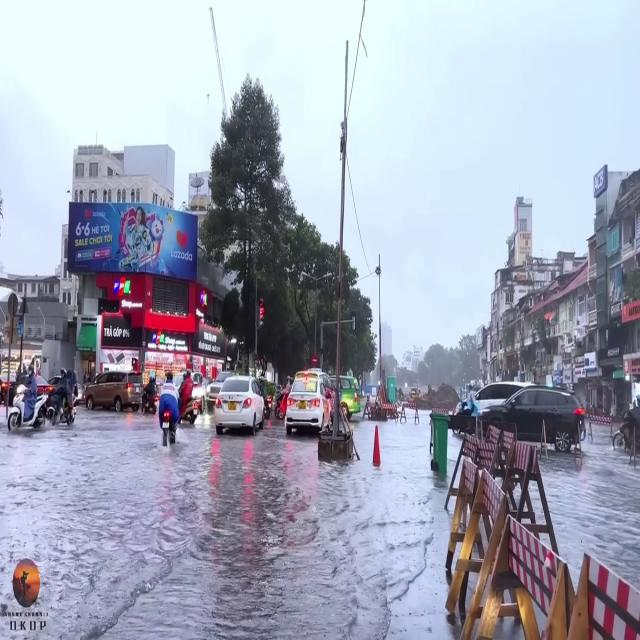bien_vang: (298, 400, 308, 411), (228, 400, 238, 409)
